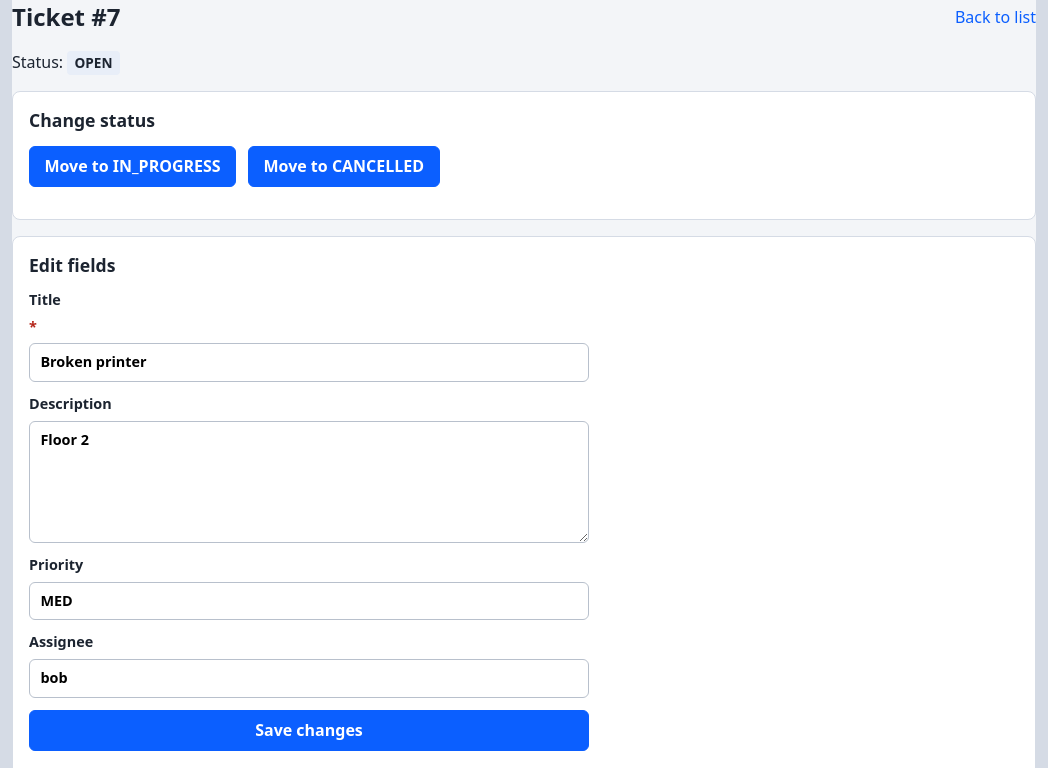
TicketDetailPage › loads details, updates fields, adds comments, and transitions status
The width and height of the screenshot is (1048, 768).
Replace the text in the field showing "Broken printer" with "Broken printer fixed title" at {"x": 309, "y": 363}, box [29,343,589,382]
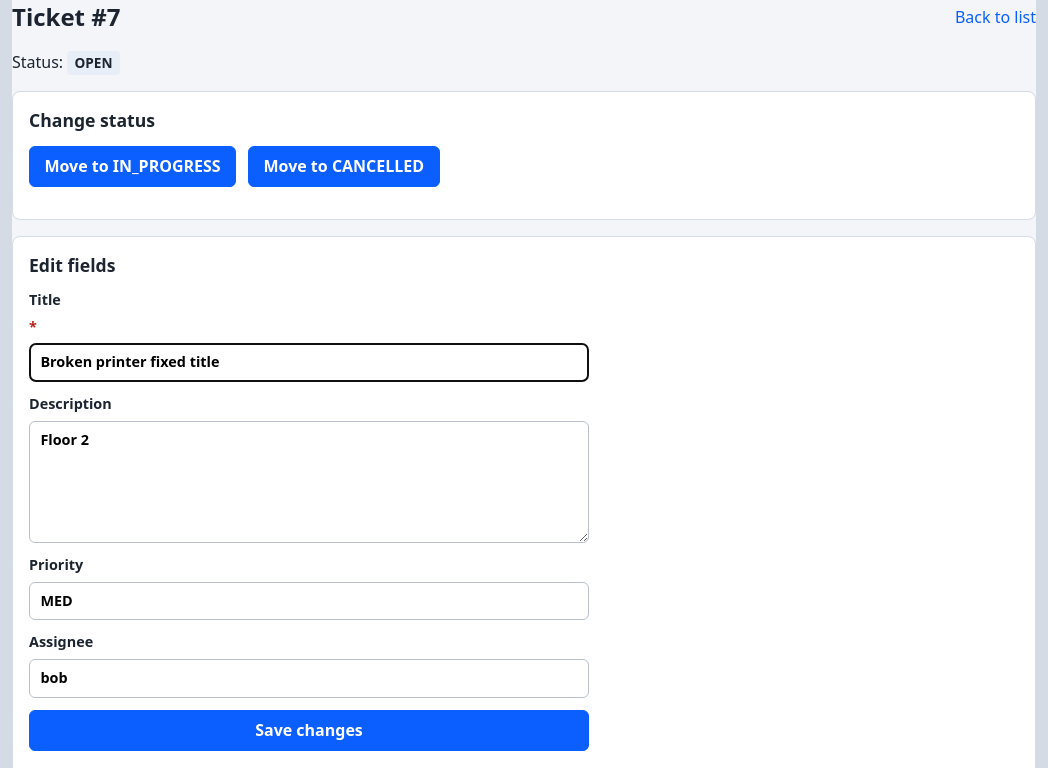
Replace the text in the field showing "bob" with "carol" at {"x": 309, "y": 678}, box [29,659,589,698]
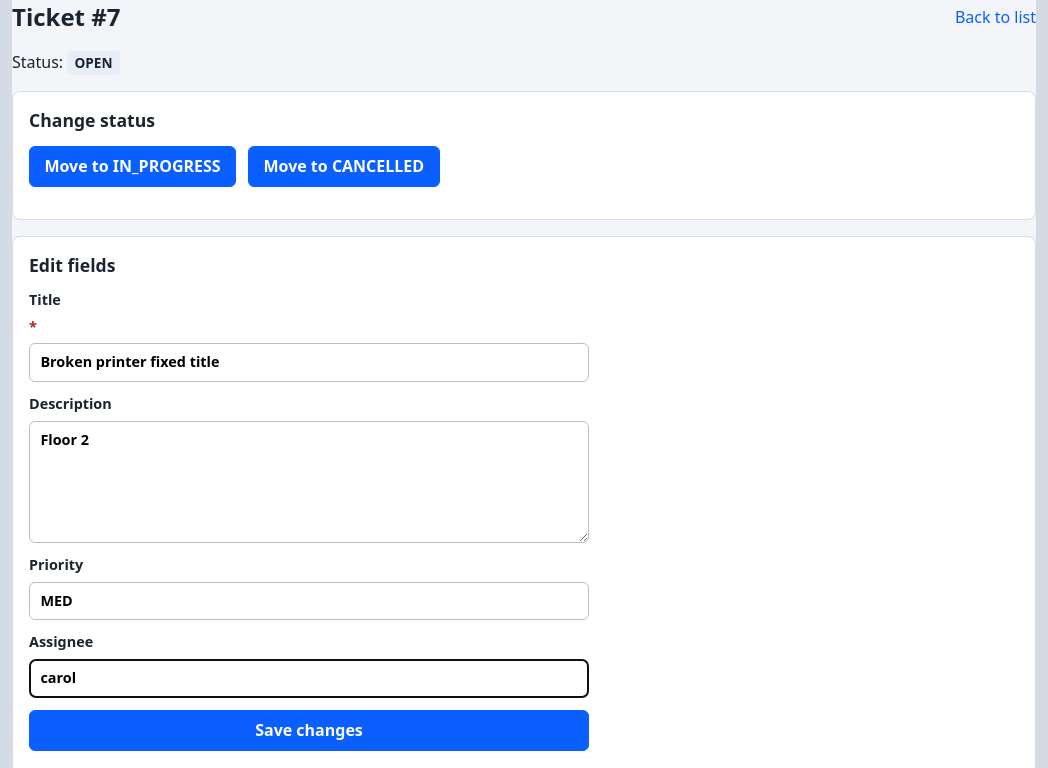
Click the button "Save changes" at {"x": 309, "y": 730}, box [29,710,589,751]
(page scrolled)
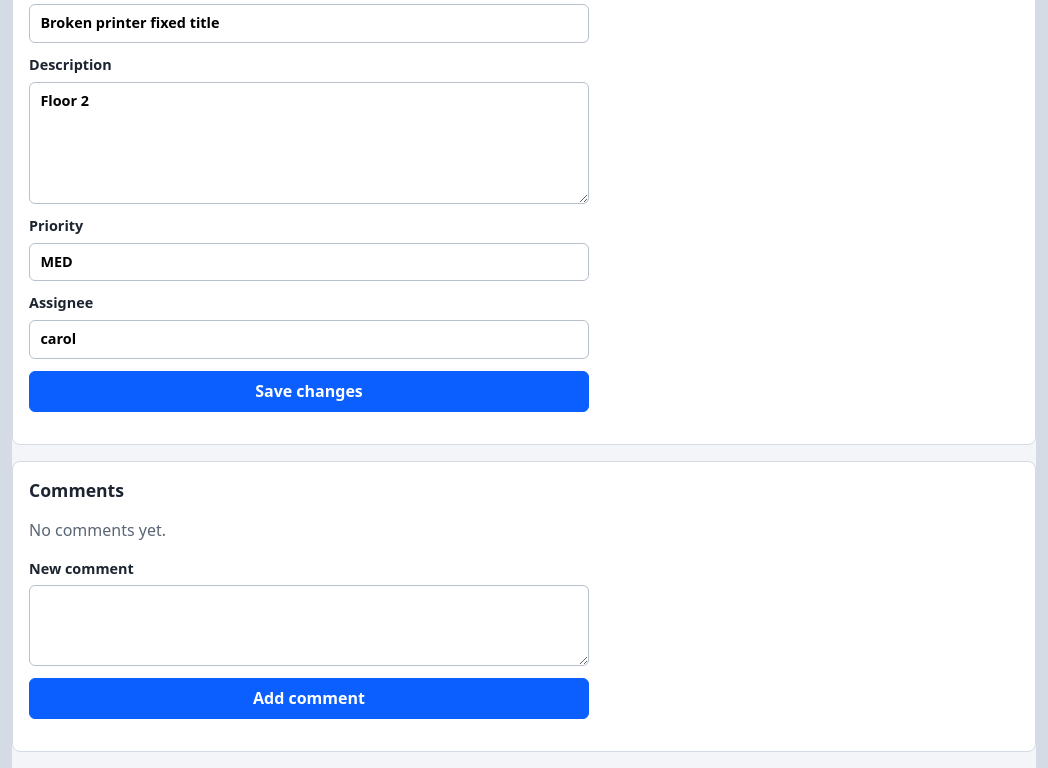
Type "Looking into it" into the text box labelled "New comment" at {"x": 309, "y": 625}, box [29,585,589,666]
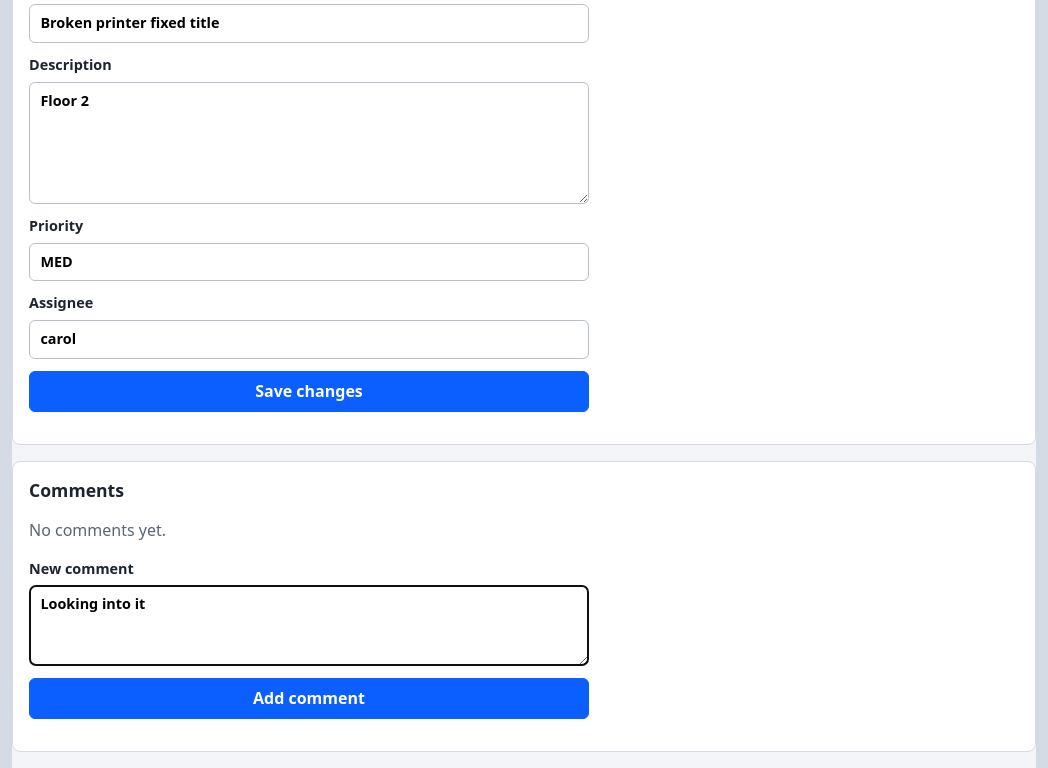
Click the button "Add comment" at {"x": 309, "y": 698}, box [29,678,589,719]
(page scrolled)
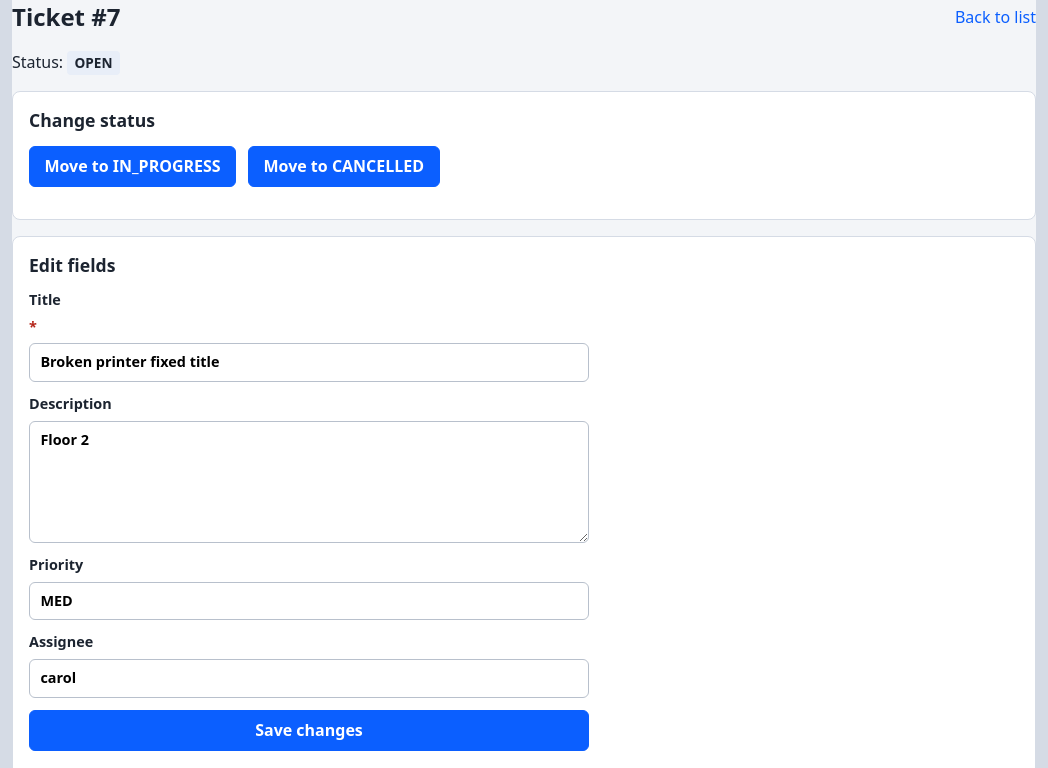
Click the button "Move to IN_PROGRESS" at {"x": 133, "y": 166}, box [29,146,236,187]
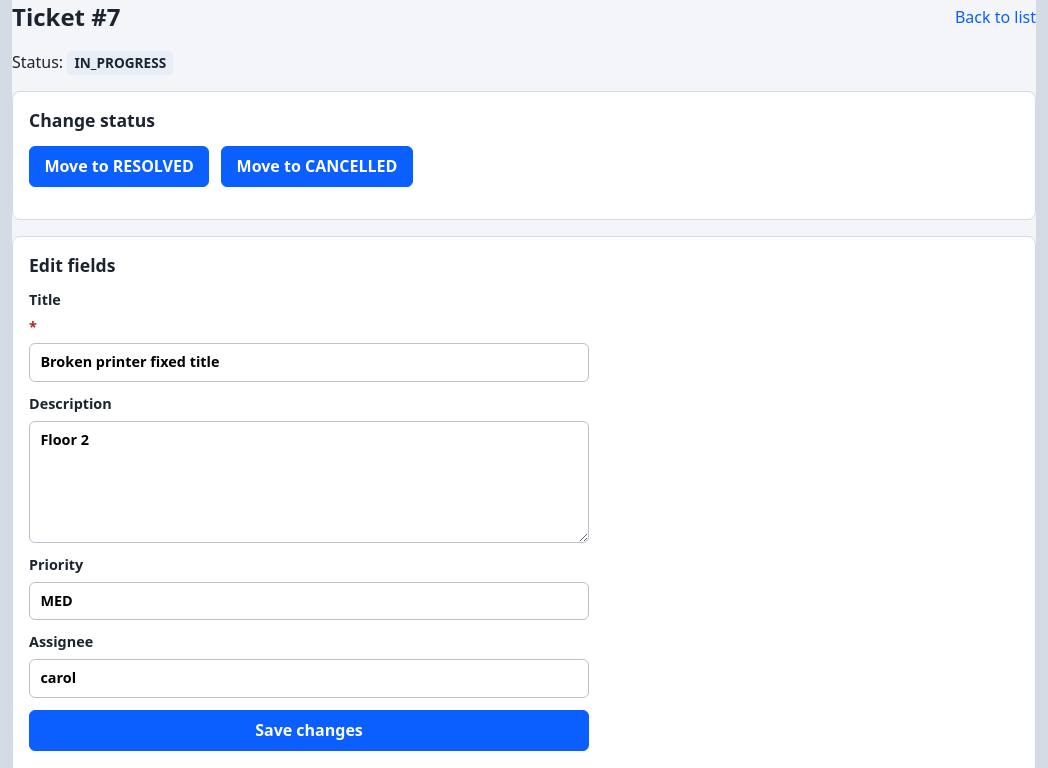
Result: the text "IN_PROGRESS" is shown at [67,51,173,75]
